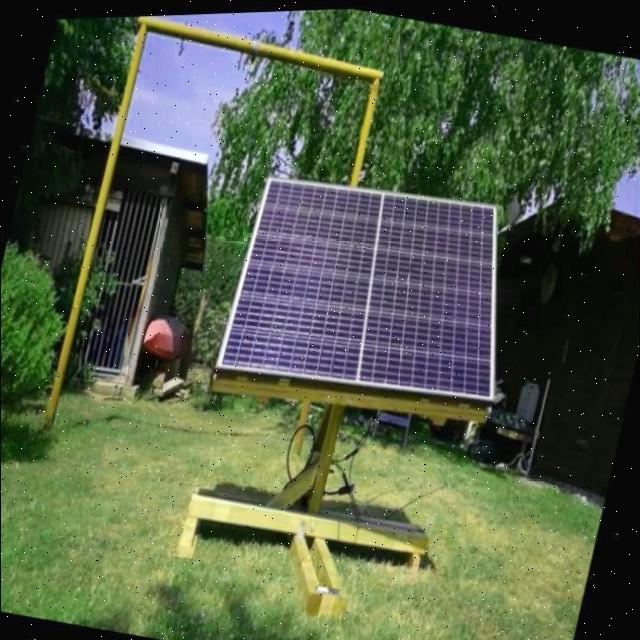Normal Solar Panel: (217, 154, 536, 424)
